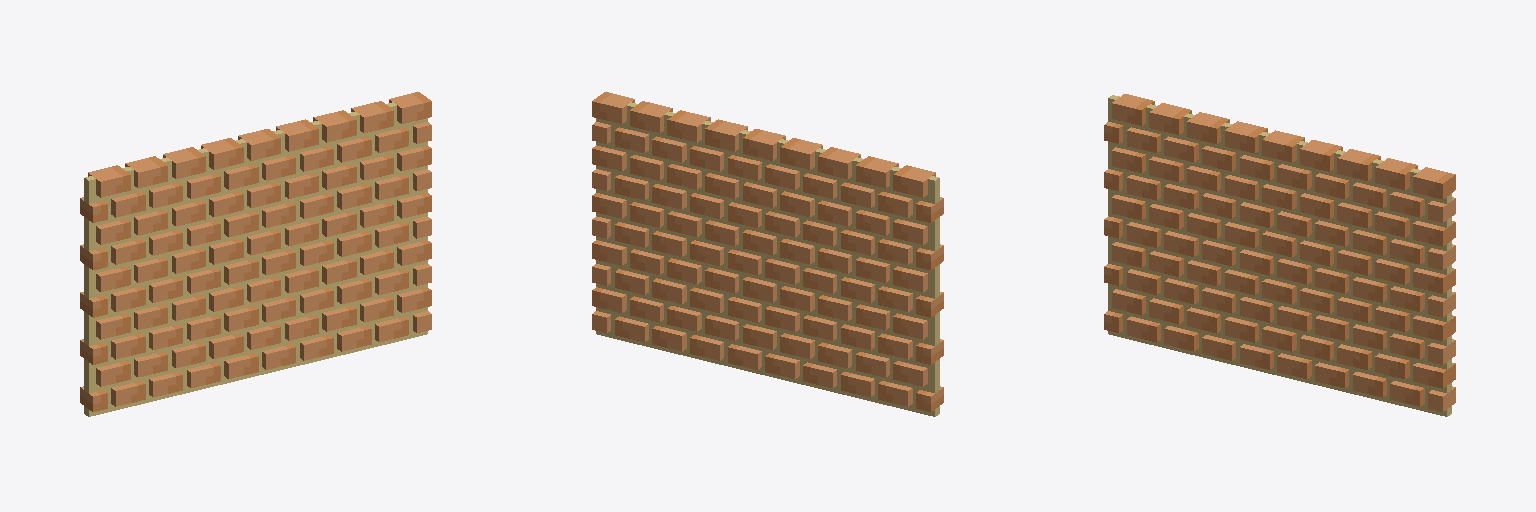
The picture shows the model from 3 angles: view 1: azimuth 30°, elevation 25°; view 2: azimuth 150°, elevation 25°; view 3: azimuth 330°, elevation 25°; orthographic projection.
Parts seen in each view (by area): view 1: Box_78; view 2: Box_78; view 3: Box_78.
Boxes of the visible parts, box(x1,y1,x2,y2) form: Box_78: box(80, 92, 431, 416); Box_78: box(592, 92, 943, 416); Box_78: box(1104, 94, 1455, 416).
Bounding box in the file's own units: 45 × 30 × 3.
1 materials, 1 textured.